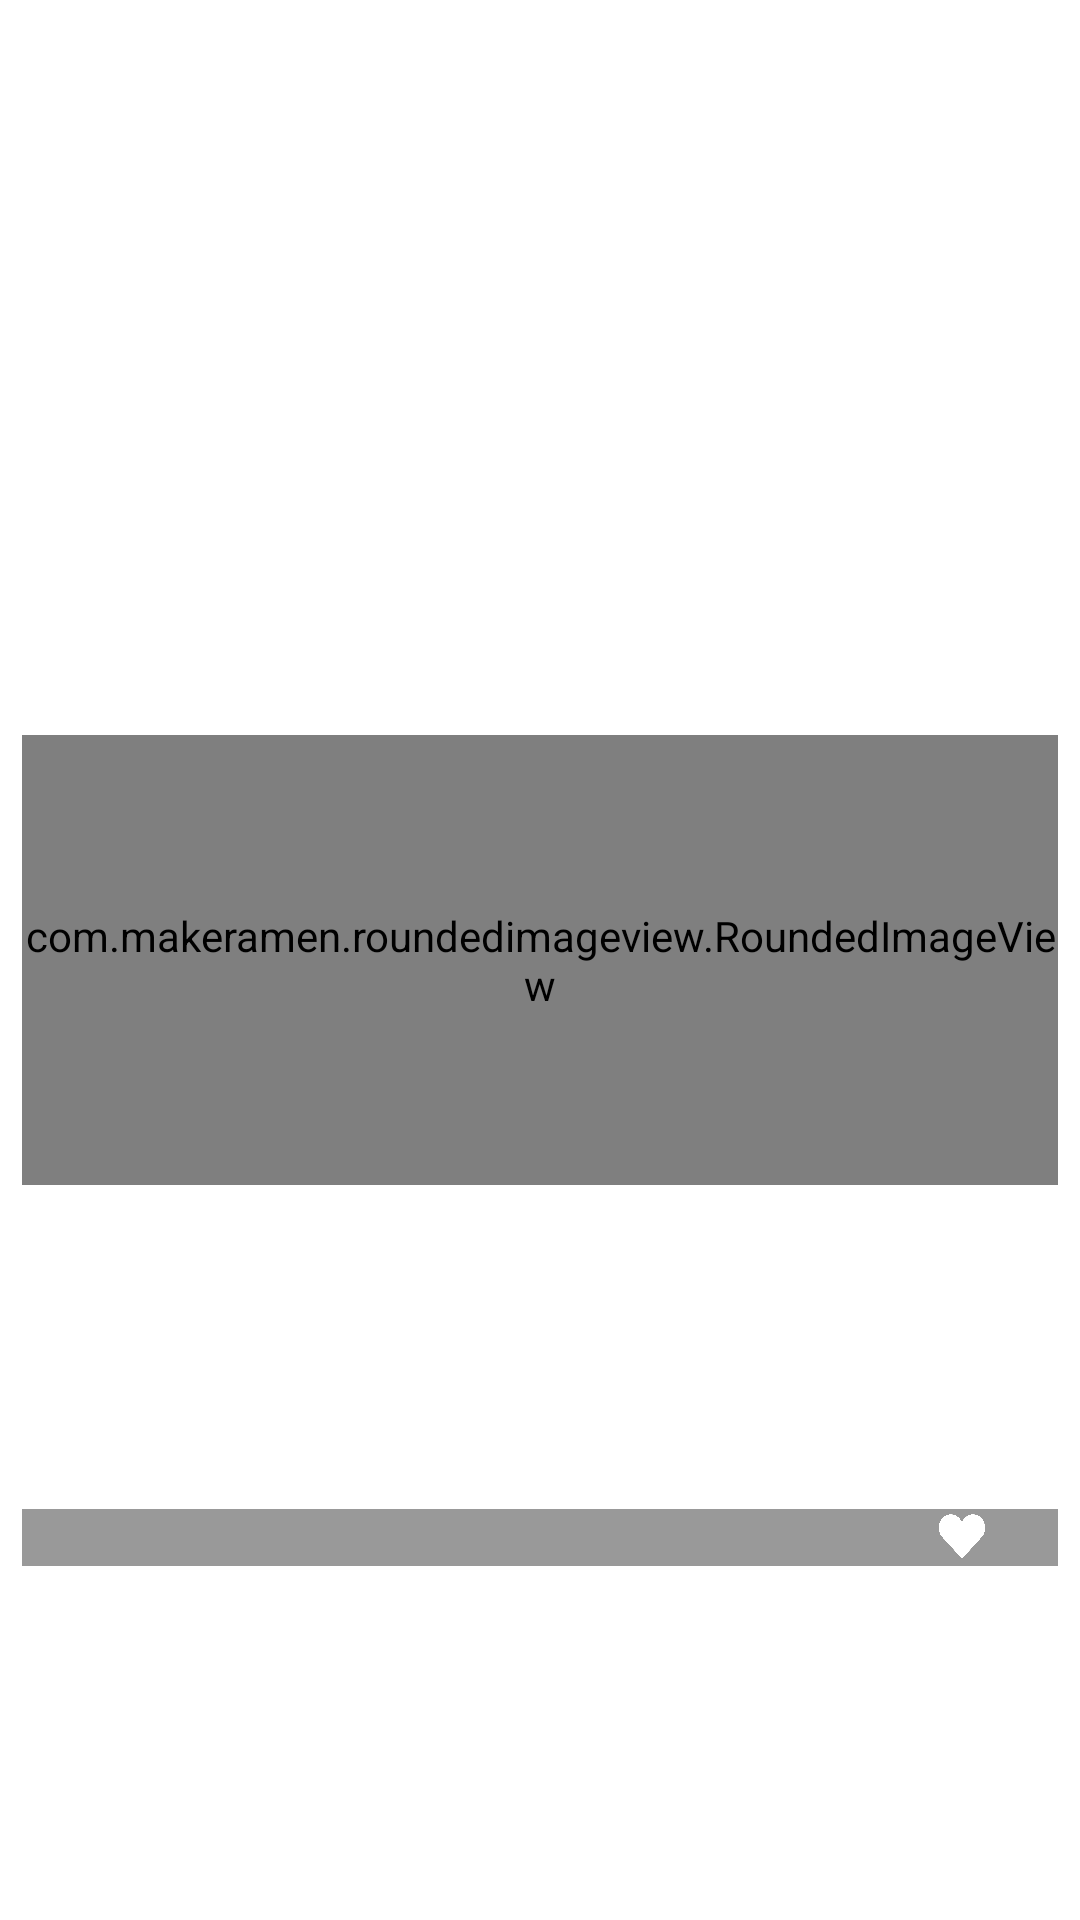

Where to tap for icons on this 1080 x 1920 app screen, as [x,y]:
heart: [961,1537]
